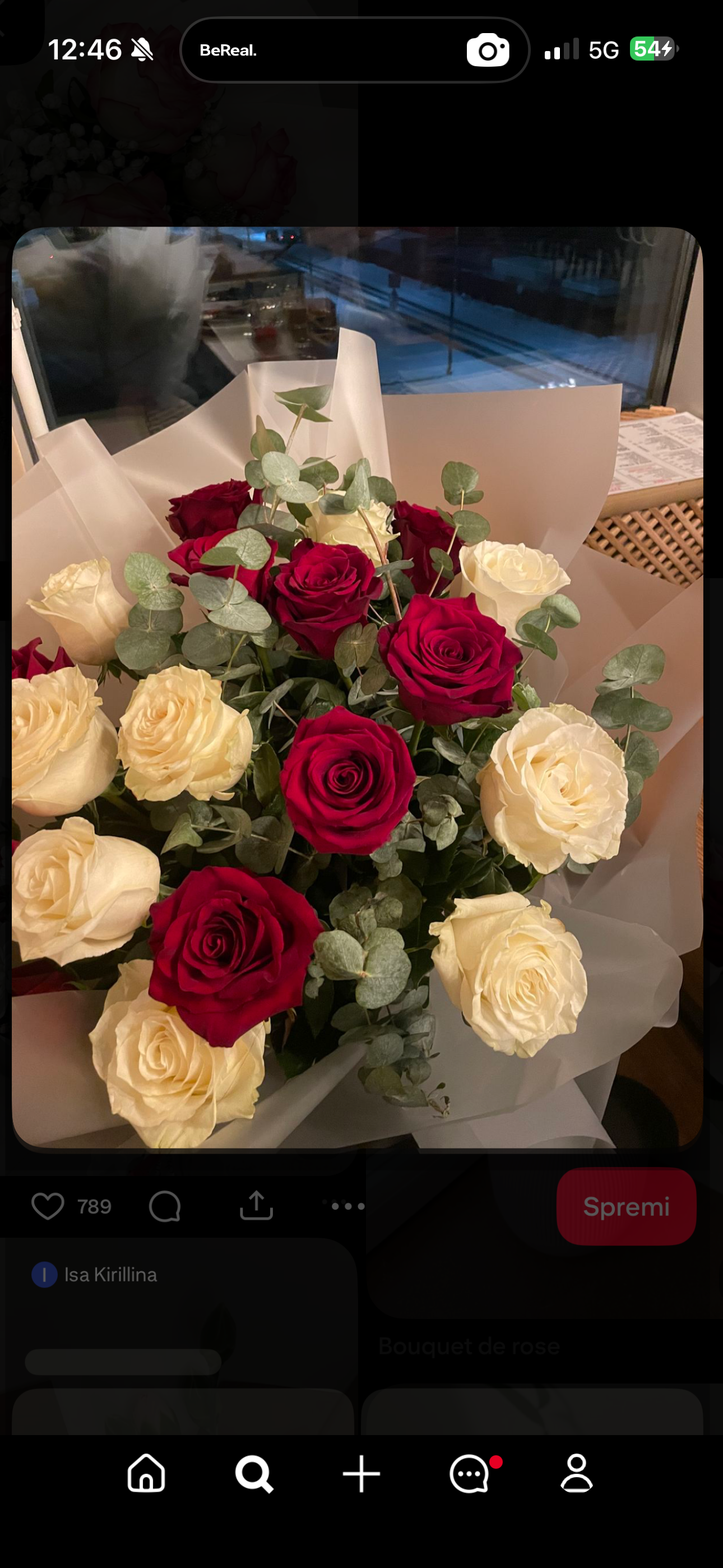rose: (88, 958, 270, 1151), (140, 864, 316, 1052), (425, 888, 588, 1062), (479, 702, 630, 876), (8, 814, 160, 963), (279, 704, 418, 856), (114, 663, 255, 805), (387, 592, 525, 733), (11, 665, 122, 823), (276, 538, 381, 667), (25, 554, 142, 669), (455, 537, 570, 630), (165, 474, 259, 543)
